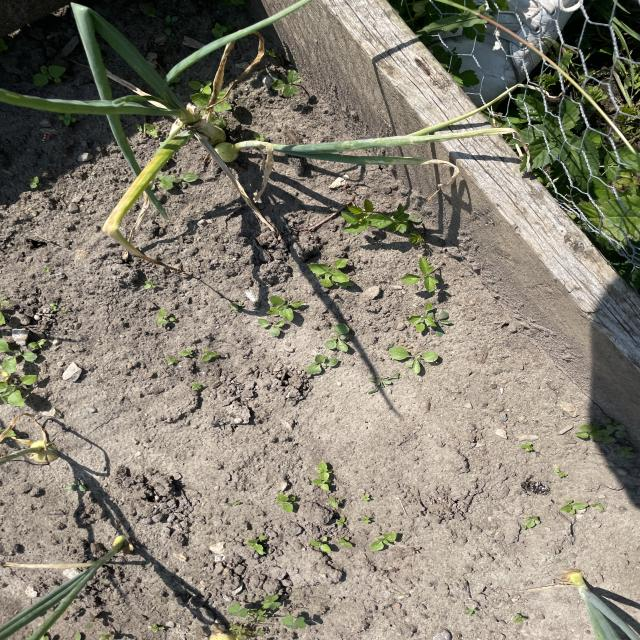Onion: (92, 35, 375, 208), (0, 527, 131, 640), (560, 568, 640, 640), (0, 440, 54, 471)
weed: (151, 304, 235, 394), (223, 589, 328, 640), (0, 302, 48, 411), (337, 206, 440, 241), (578, 415, 640, 466), (253, 290, 304, 341), (386, 344, 442, 381), (359, 522, 403, 567), (302, 257, 360, 291), (404, 304, 459, 334), (408, 258, 448, 298), (305, 455, 341, 499), (320, 318, 360, 355), (242, 522, 280, 559)
